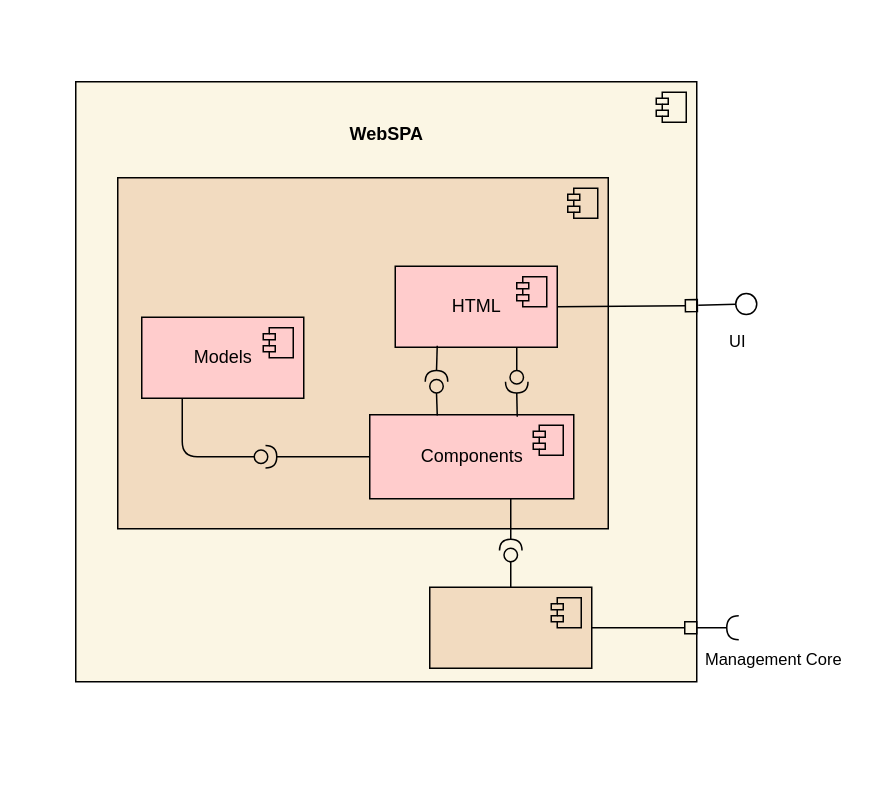
Image size: 881x798. Some labels were removed from this diagram. The box of each missing label's shape, as (x1, y1, x2, y2) in pixels:
Pages: (116, 176, 608, 529)
Services: (428, 586, 592, 668)
